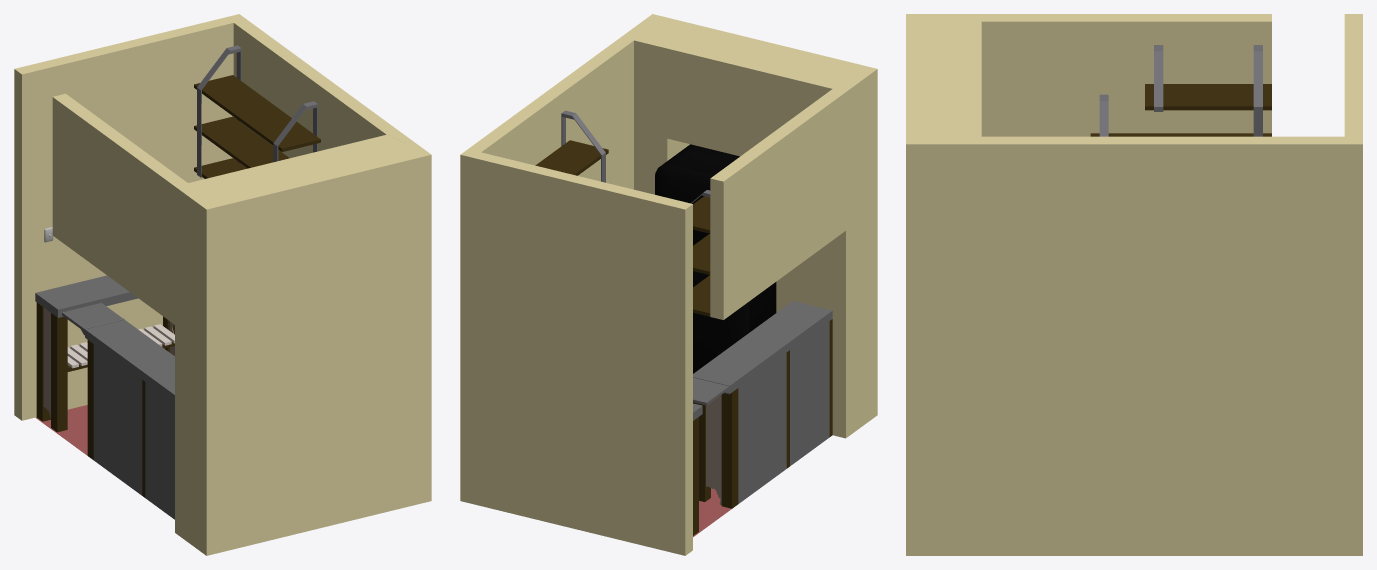
File: Env_Kitchen_1.5x2m.fbx
3 views of the same model, side by side, from view 1: azimuth 30°, elevation 25°; view 2: azimuth 150°, elevation 25°; view 3: azimuth 270°, elevation 25° (orthographic). The views are drawn at different scales.
Parts seen in each view (by area): view 1: 1.5x2m_Kitchen, Service_Counter, G.Shelf_Even, Long_Counter, 1.5x2m_Floor, Flip-Up_Counter; view 2: 1.5x2m_Kitchen, Service_Counter, Main Door, Fridge, G.Shelf_Even, G.Shelf_Stepped, Freezer_Door, Long_Counter, Flip-Up_Counter, 1.5x2m_Floor; view 3: 1.5x2m_Kitchen, G.Shelf_Stepped.
Boxes of the visible parts, x1=… form: 1.5x2m_Kitchen: x1=14, y1=14, x2=431, y2=555; Service_Counter: x1=84, y1=318, x2=174, y2=519; G.Shelf_Even: x1=194, y1=45, x2=320, y2=178; Long_Counter: x1=35, y1=275, x2=174, y2=432; 1.5x2m_Floor: x1=35, y1=405, x2=87, y2=455; Flip-Up_Counter: x1=62, y1=303, x2=123, y2=335; 1.5x2m_Kitchen: x1=460, y1=14, x2=877, y2=555; Service_Counter: x1=693, y1=301, x2=832, y2=508; Main Door: x1=693, y1=271, x2=750, y2=403; Fridge: x1=662, y1=144, x2=776, y2=331; G.Shelf_Even: x1=535, y1=110, x2=608, y2=182; G.Shelf_Stepped: x1=690, y1=190, x2=710, y2=316; Freezer_Door: x1=655, y1=163, x2=714, y2=245; Long_Counter: x1=693, y1=403, x2=702, y2=535; Flip-Up_Counter: x1=693, y1=377, x2=729, y2=405; 1.5x2m_Floor: x1=693, y1=488, x2=731, y2=536; 1.5x2m_Kitchen: x1=906, y1=14, x2=1362, y2=555; G.Shelf_Stepped: x1=1090, y1=45, x2=1271, y2=136.
Size of the model in its own units: 170 by 250 by 252.
